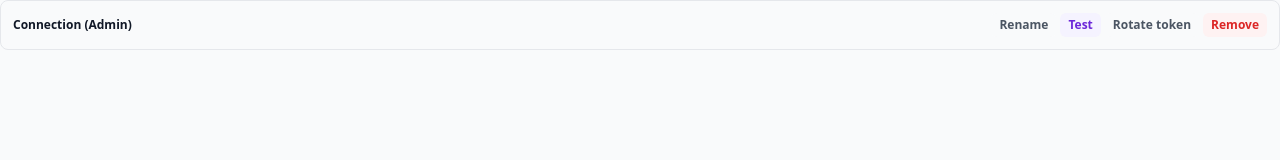
DataAgentConnectionPanel › surfaces a rename error instead of silently doing nothing
Click the button "Rename" at {"x": 1024, "y": 25}, box [991,13,1056,37]
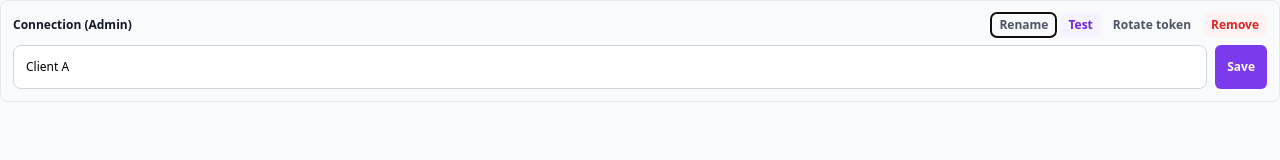
Replace the text in the field named "project name" with "x" at {"x": 610, "y": 67}, box [13,45,1207,89]
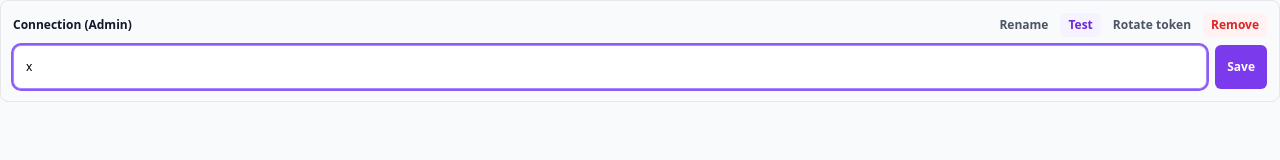
Click the button "Save" at {"x": 1241, "y": 67}, box [1215,45,1267,89]
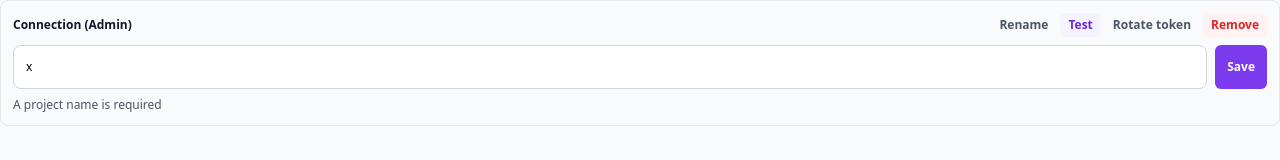
Expected: the text "A project name is required" is shown, [13,96,162,113]
